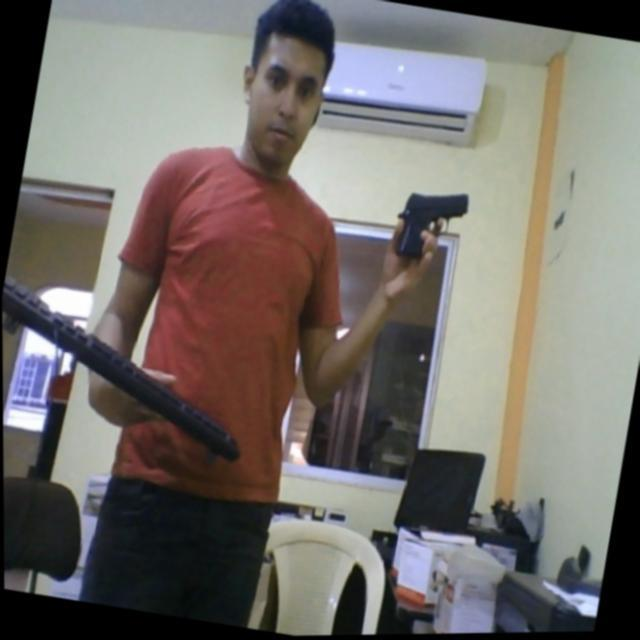weapon: (384, 180, 472, 280)
